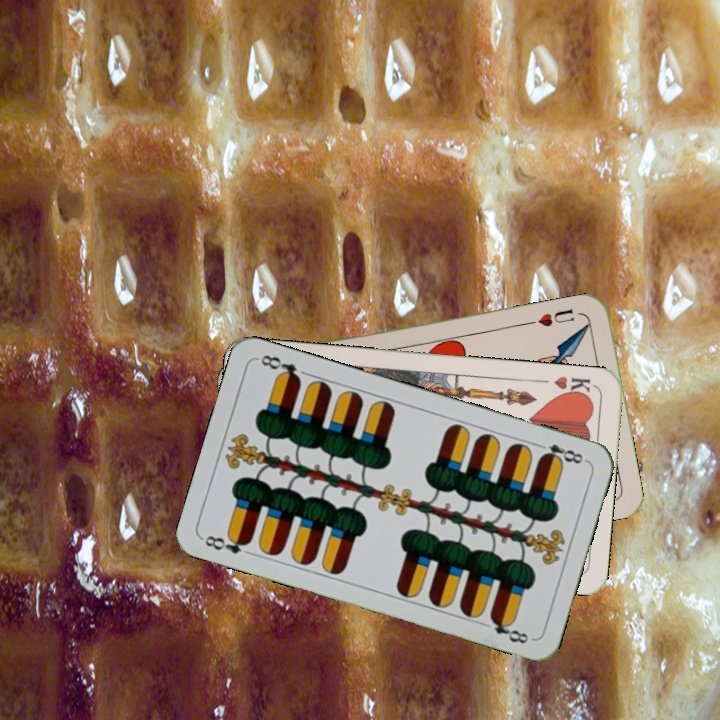E8: (531, 439, 589, 468), (199, 530, 254, 557)
HK: (550, 372, 597, 400)
HU: (534, 305, 576, 329)
